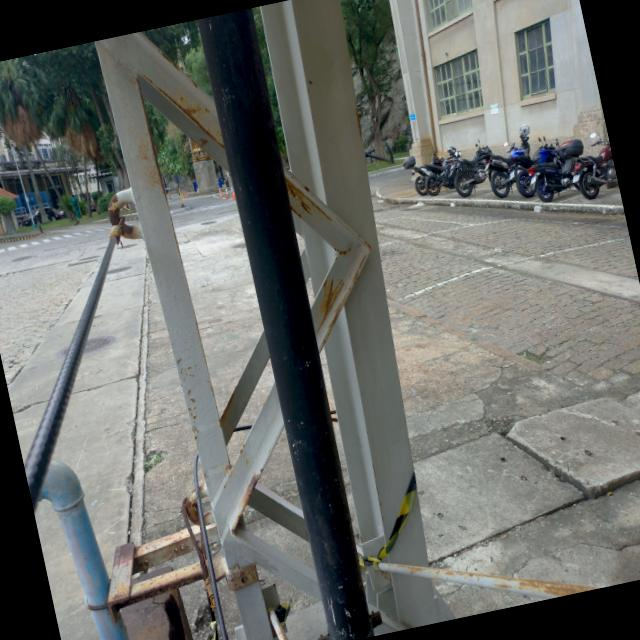gas: (196, 9, 383, 640)
